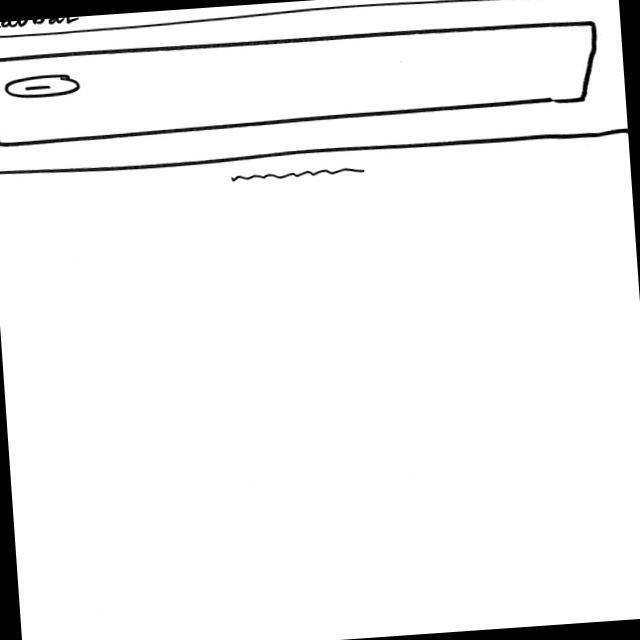container: (1, 14, 602, 149), (1, 1, 618, 39)
icon-button: (5, 71, 85, 102)
label: (1, 17, 84, 33)
text: (225, 165, 370, 188)
